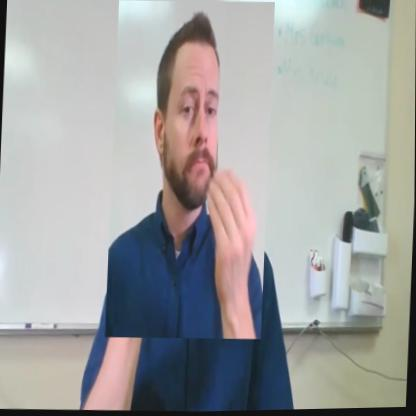Food: (105, 0, 275, 343)
